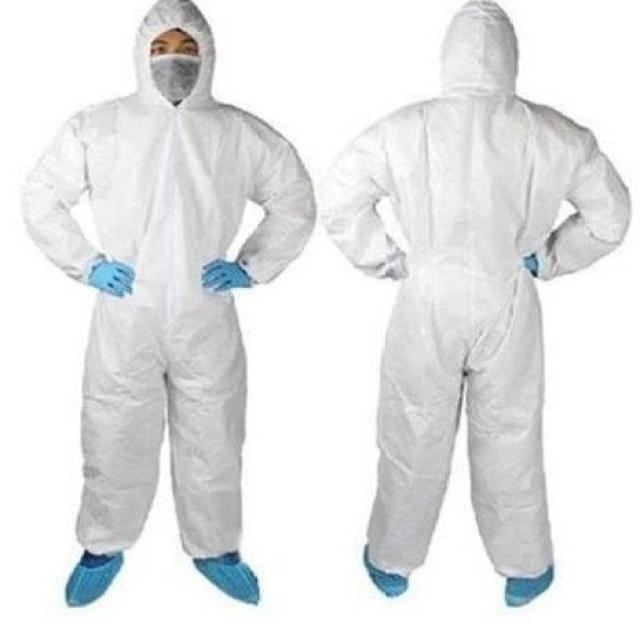Coverall: (14, 0, 322, 627), (314, 14, 590, 632)
Gloves: (74, 248, 164, 316), (180, 242, 244, 294)
Mask: (142, 51, 212, 108)
